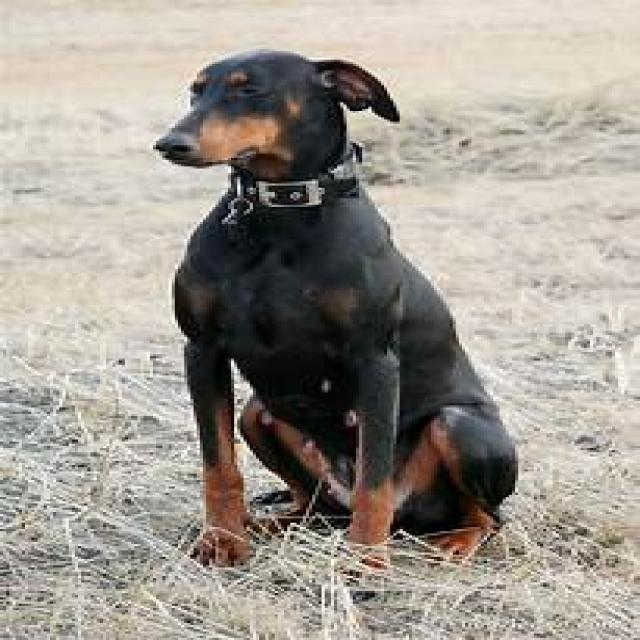dog: (156, 49, 518, 570)
